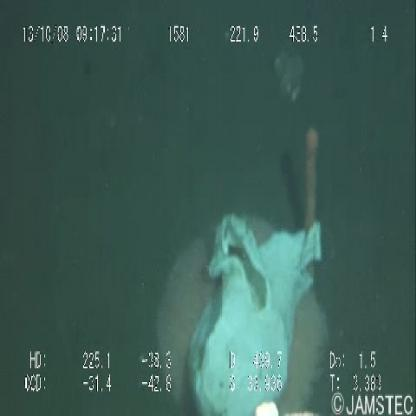Rác: (181, 205, 330, 416)
